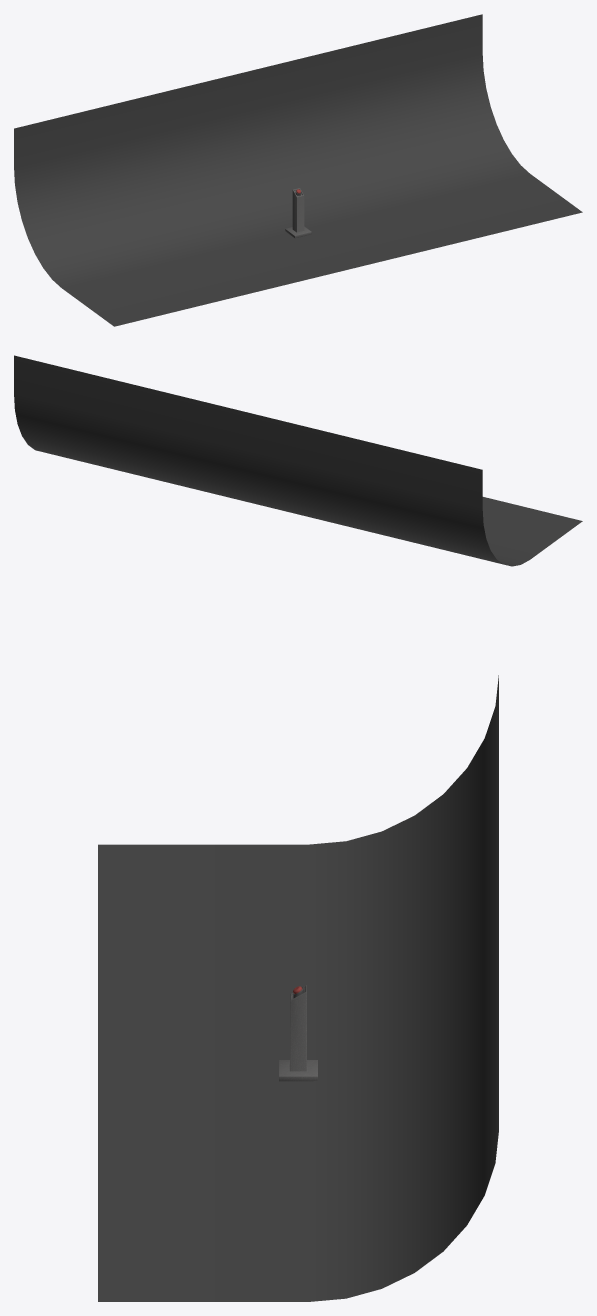
Rendered from 基座按钮开关.fbx.
3 renders of one model, top to bottom at view 1: azimuth 30°, elevation 25°; view 2: azimuth 150°, elevation 25°; view 3: azimuth 270°, elevation 25°, orthographic. The views are drawn at different scales.
Visible parts, largest first — view 1: Plane, model_0; view 2: Plane; view 3: Plane, model_0.
Part boxes in pixels (bbox=[...]): Plane: bbox=[14, 14, 582, 326]; model_0: bbox=[285, 188, 311, 238]; Plane: bbox=[14, 355, 582, 566]; Plane: bbox=[98, 675, 498, 1301]; model_0: bbox=[279, 985, 317, 1081].
Size of the model in its own units: 4254 by 1082 by 1577.
Materials: 2 (1 with a texture image).
